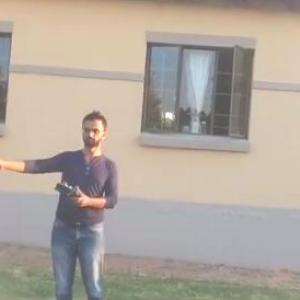follow: (0, 104, 124, 299)
